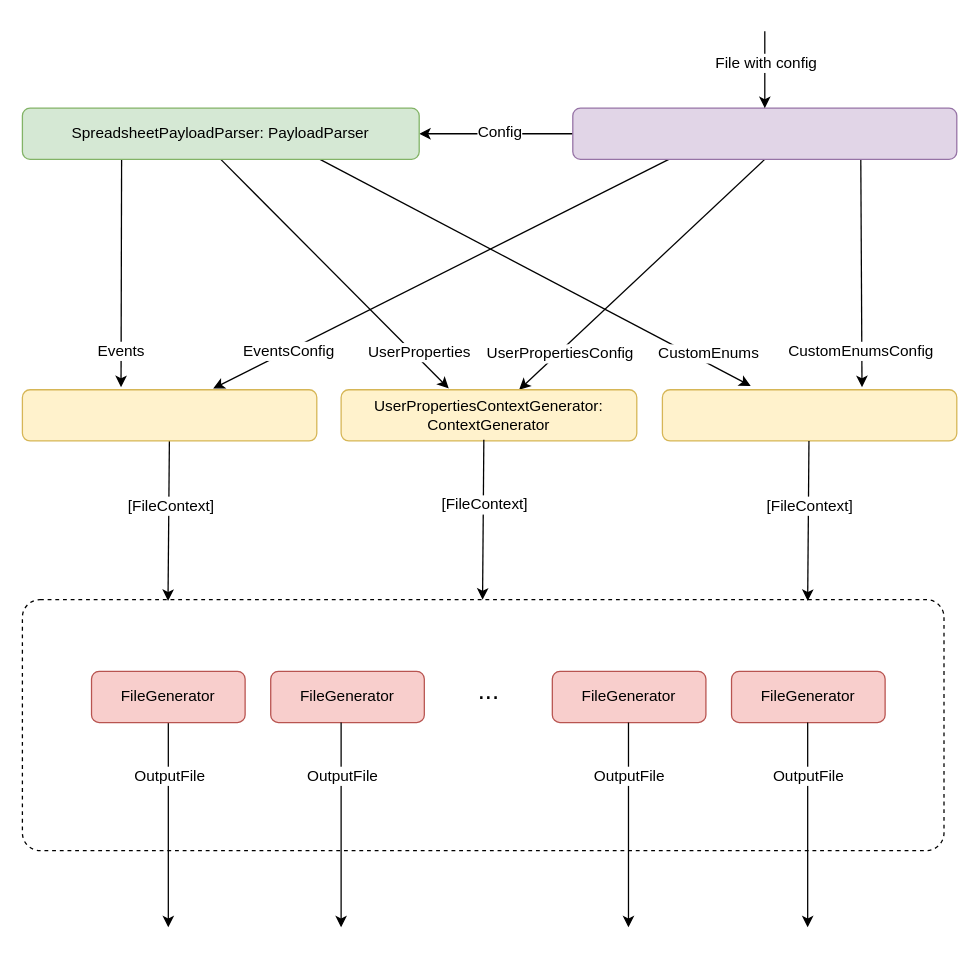
Some shapes in this 979 by 960 pixel diagram are drawn without their labels. The box of each missing label's shape, as (x1, y1, x2, y2) in pixels:
CustomEnumsContextGenerator: ContextGenerator: (661, 388, 957, 441)
EventsContextGenerator: ContextGenerator: (21, 388, 317, 441)
FileConfigParser: ConfigParser: (572, 107, 957, 159)
